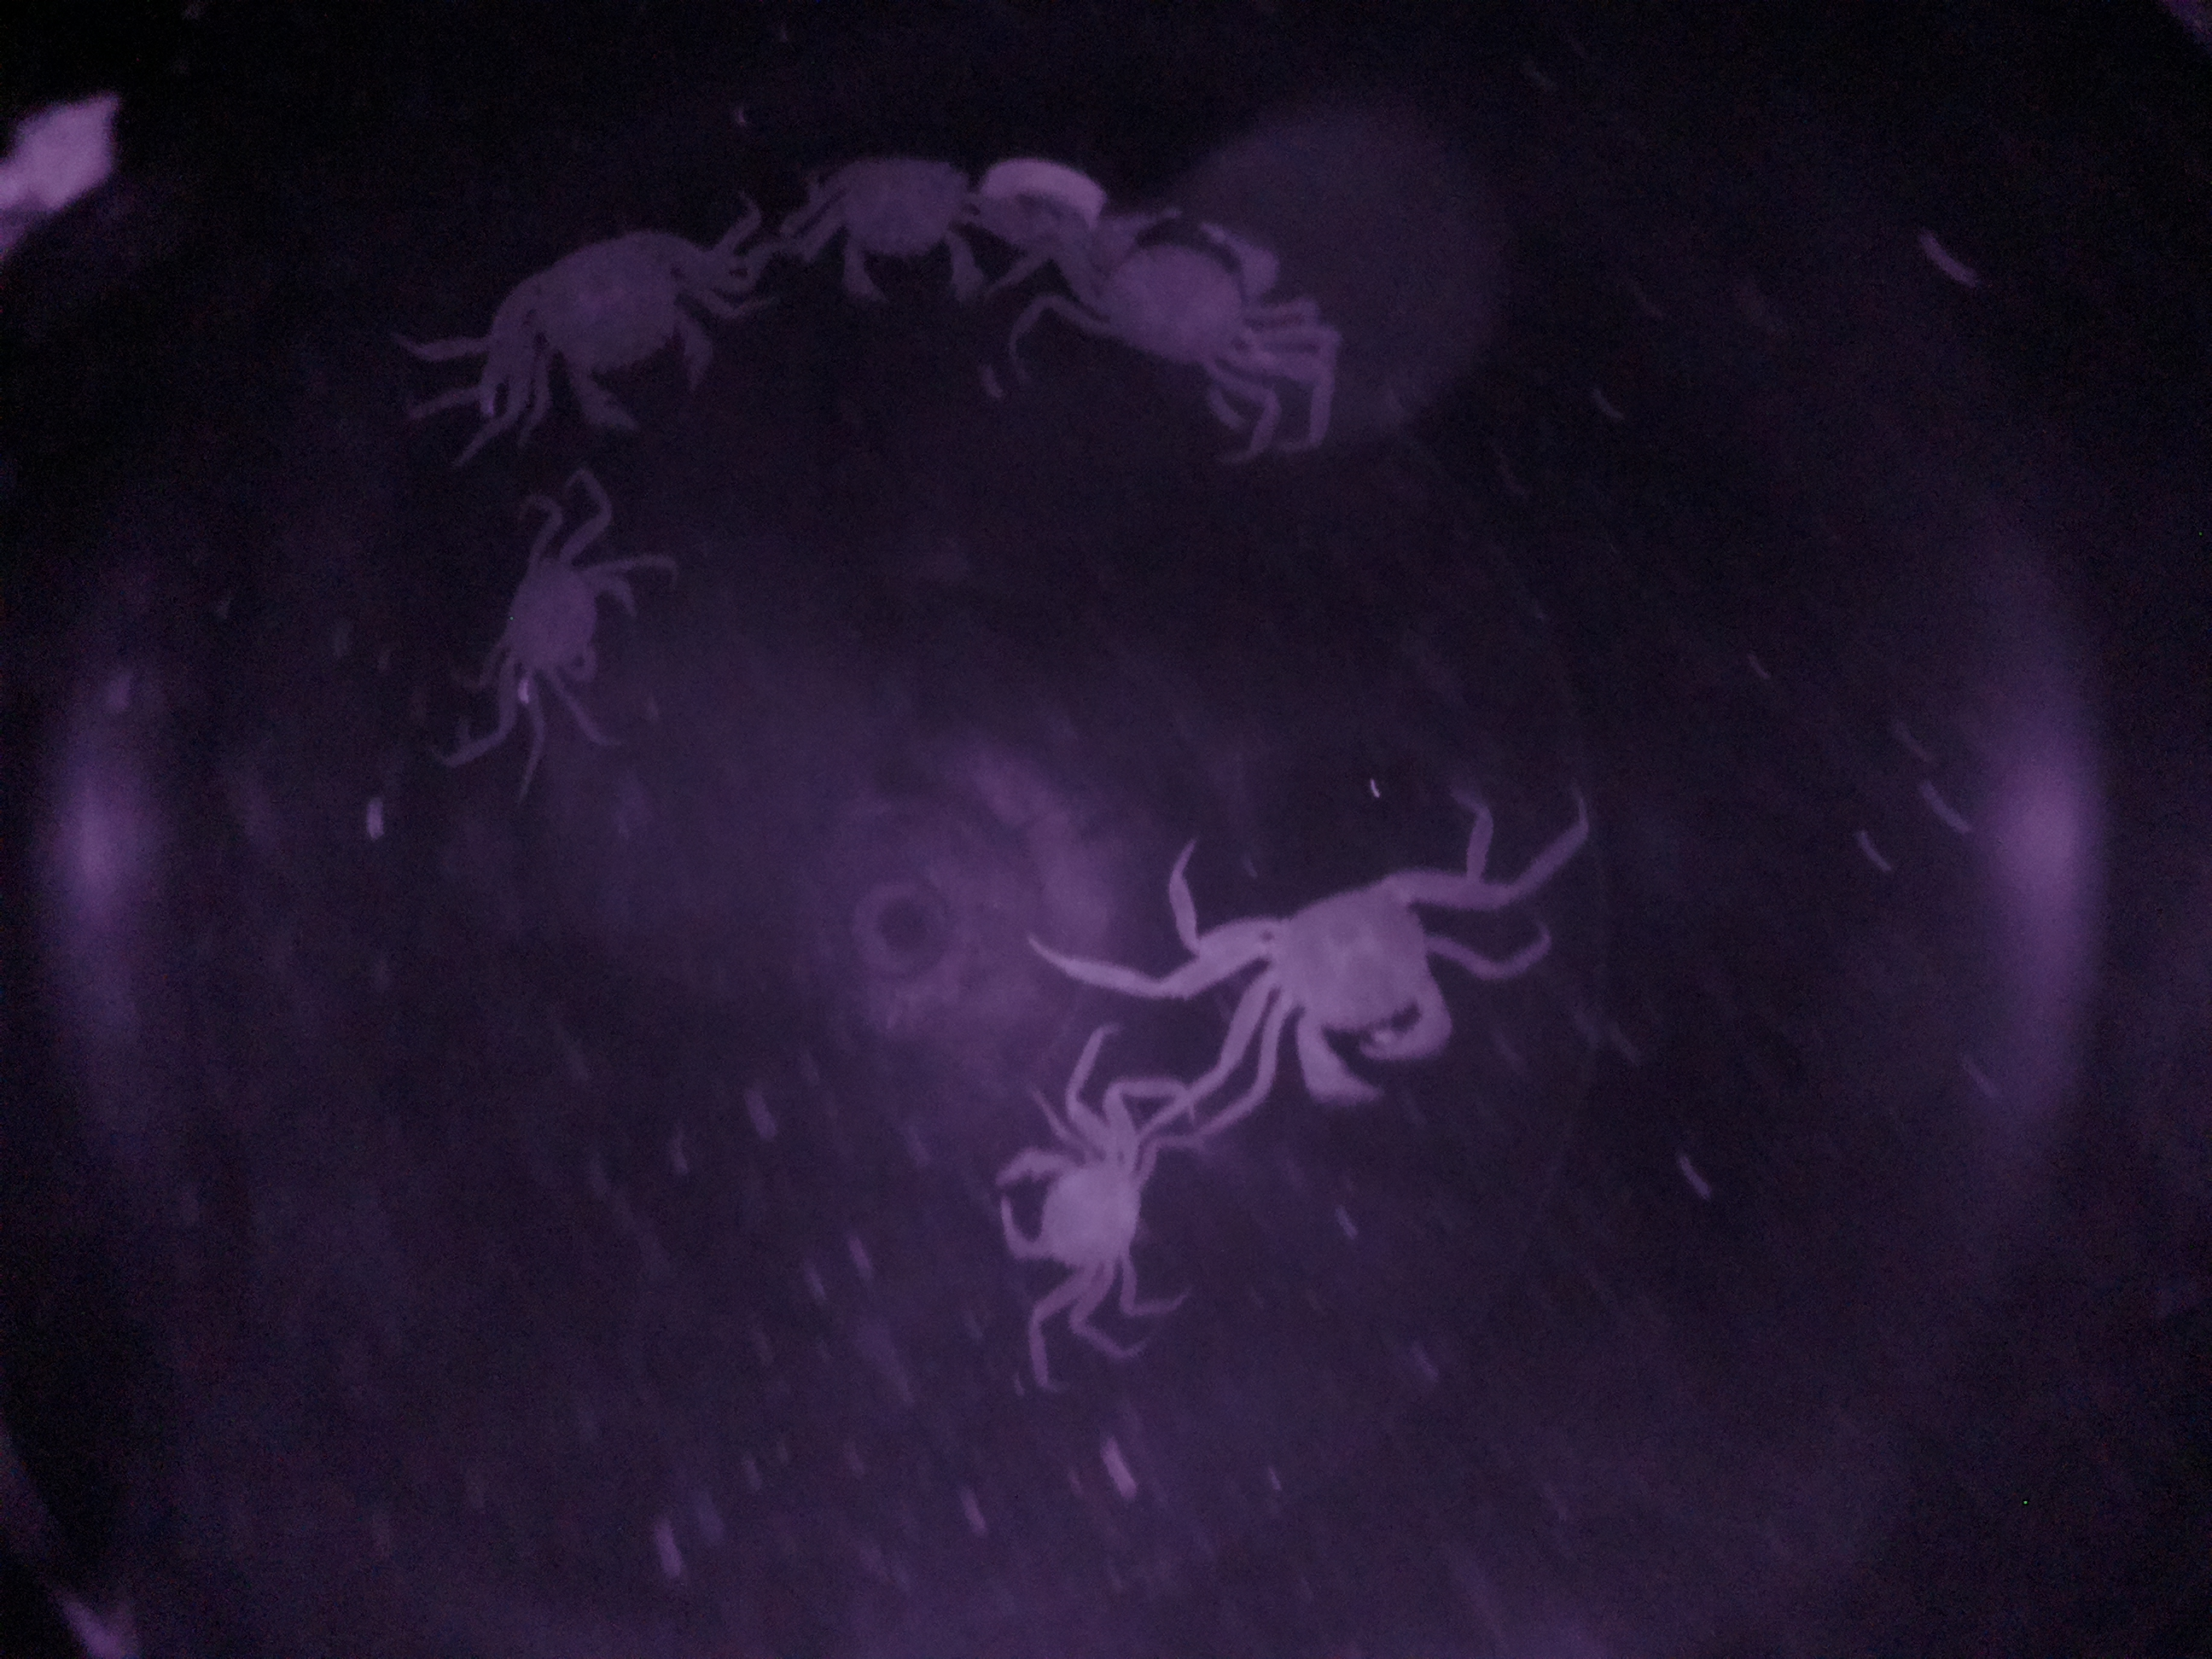Crab: (1209, 838, 1498, 1129), (1038, 193, 1312, 401), (988, 1093, 1160, 1337), (488, 500, 660, 734)
